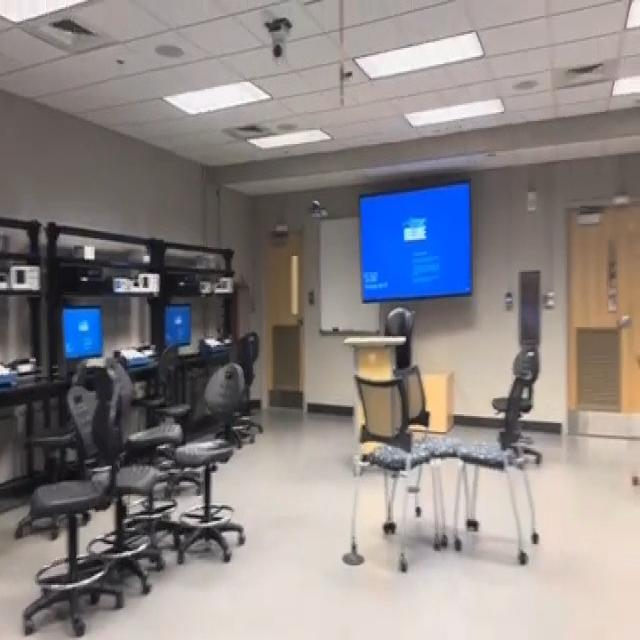drone: (294, 187, 334, 227)
